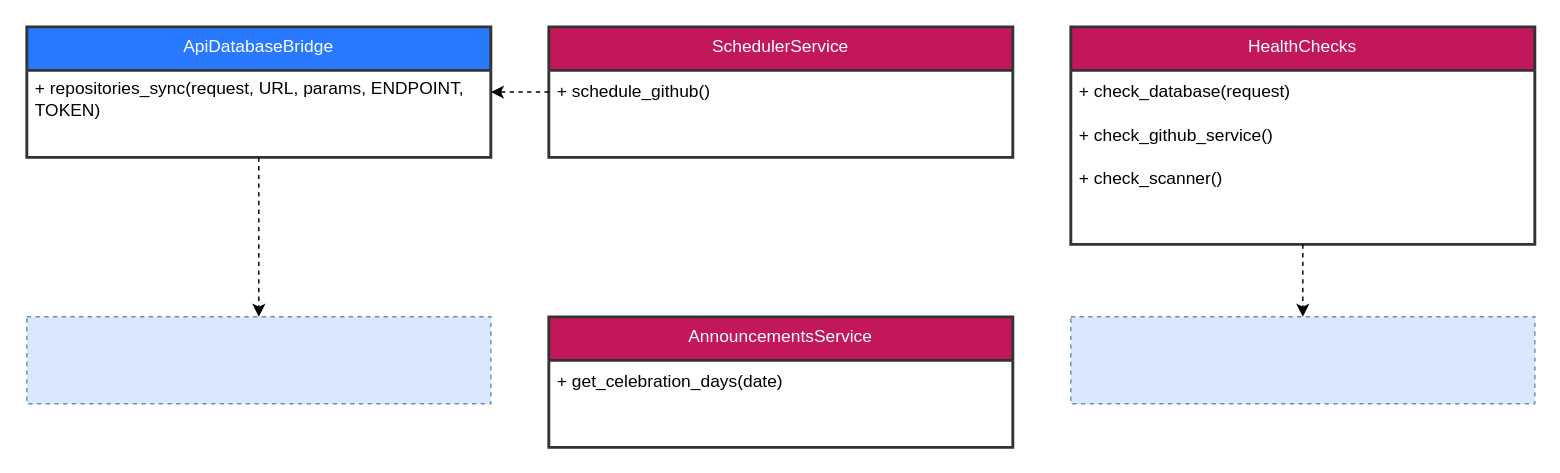
The diagram is 1560 pixels wide and 473 high, and some of its shapes have lost their labels. Here are the shapes that lost their labels. From the top down, the centre of each, then its label:
[258,359]: GithubAPI (from API Clients)
[1302,359]: Scanner (from API Clients)
